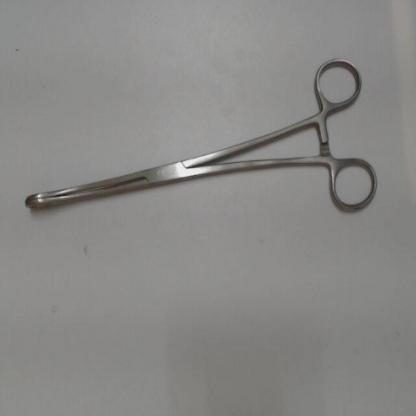Sponge Forceps: (16, 46, 386, 225)
